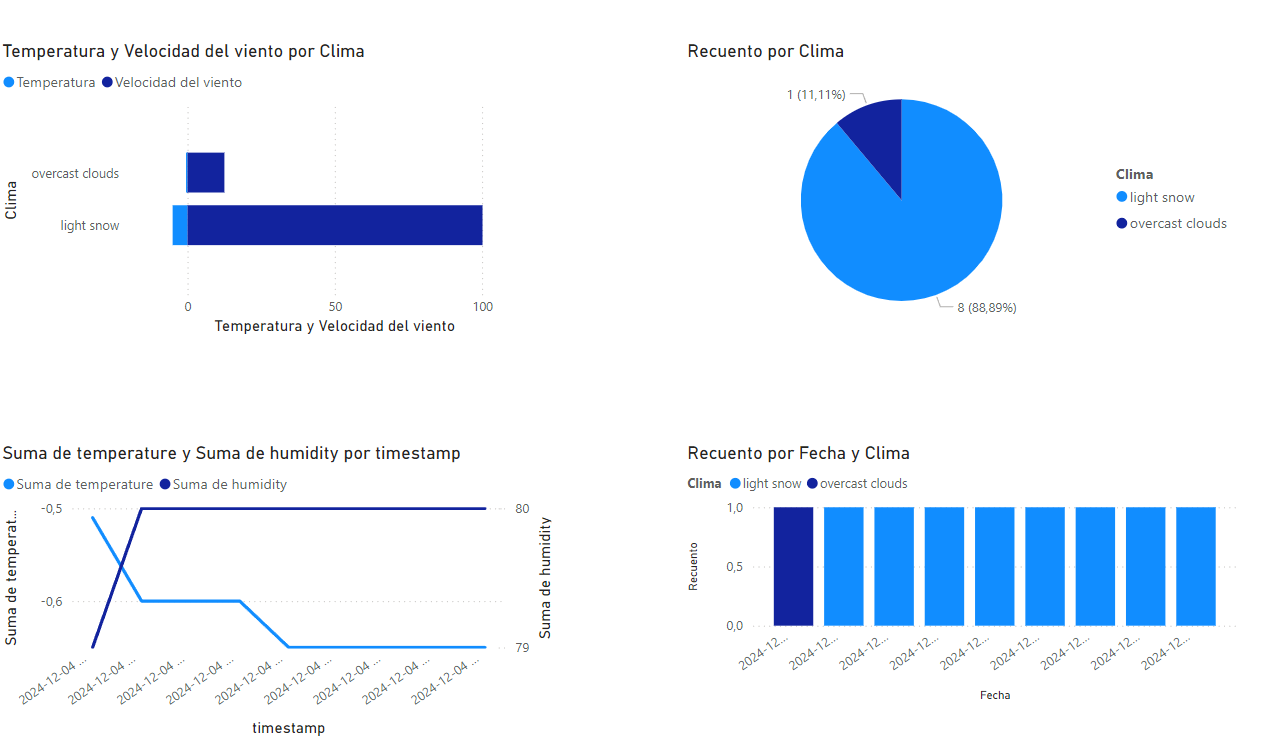

The page's visual inventory and layout, read from the dashboard file:
{"tool":"powerbi","page":{"name":"Página 2","canvas":[1280,720],"ordinal":1},"visuals":[{"type":"columnChart","fields":{"Category":["powerbitable.timestamp"],"Y":["CountNonNull(powerbitable._id)"],"Series":["powerbitable.weather"]},"box":[640.2,439.3,523.4,247.7],"z":0},{"type":"lineChart","fields":{"Category":["powerbitable.timestamp"],"Y":["Sum(powerbitable.temperature)"],"Y2":["Sum(powerbitable.humidity)"]},"box":[0,439.3,523.4,280.4],"z":1},{"type":"barChart","fields":{"Category":["powerbitable.weather"],"Y":["Sum(powerbitable.temperature)","Sum(powerbitable.wind_speed)"]},"box":[0,63.6,523.4,280.4],"z":2},{"type":"pieChart","fields":{"Category":["powerbitable.weather"],"Y":["CountNonNull(powerbitable._id)"]},"box":[640.2,63.6,523.4,280.4],"z":3}]}

Visuals, with their boxes in screenshot pixels (x1, y1, x2, y2), scaled from the page's 1280x720 canvas onto the 1285x741 screenshot:
columnChart - powerbitable.timestamp x CountNonNull(powerbitable._id): x1=643, y1=452, x2=1168, y2=707
lineChart - powerbitable.timestamp x Sum(powerbitable.temperature): x1=0, y1=452, x2=525, y2=740
barChart - powerbitable.weather x Sum(powerbitable.temperature): x1=0, y1=65, x2=525, y2=354
pieChart - powerbitable.weather x CountNonNull(powerbitable._id): x1=643, y1=65, x2=1168, y2=354
